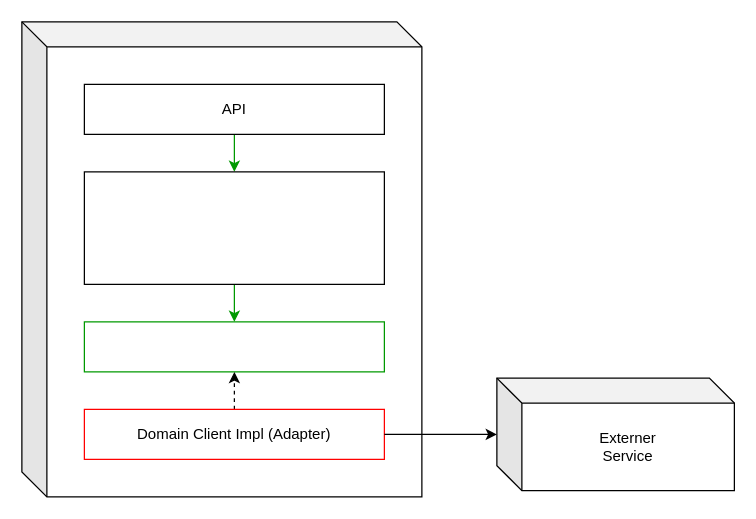
This 756x519 diagram has some shape labels left out. Each missing label, with the centre of its shape:
Business: (233,227)
Domain Client I nterface (Port): (233,346)
